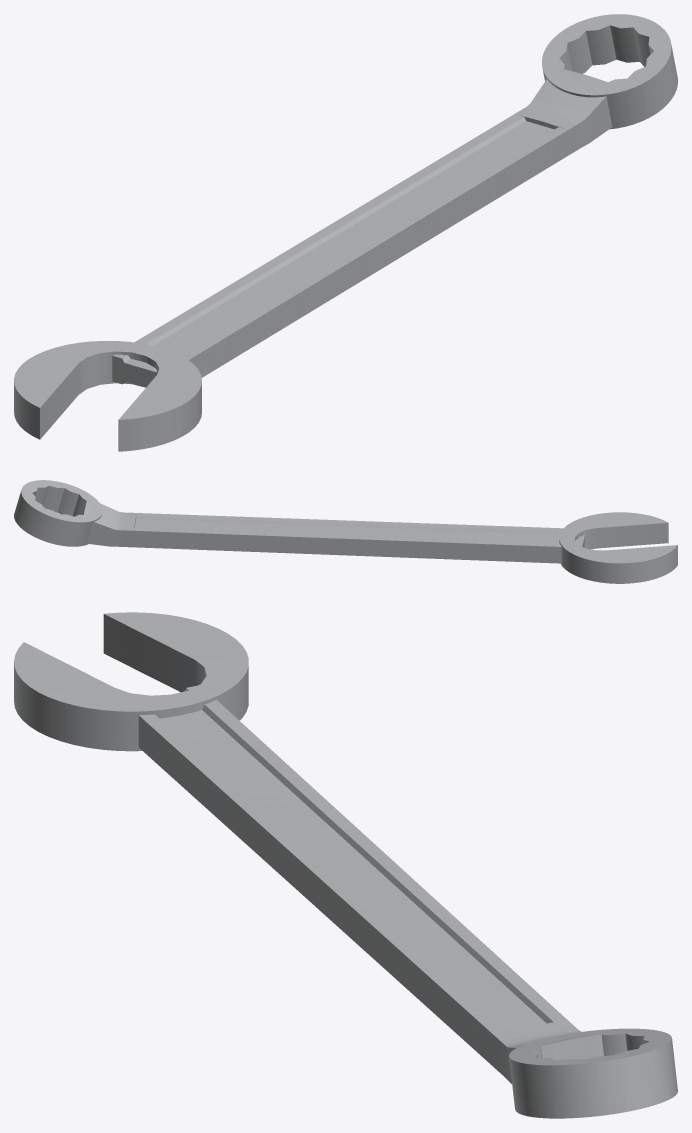
The model's file is combination-spanner-19-mm-fea6d252.glb.
3 views of the same model, one above another, from view 1: azimuth 30°, elevation 25°; view 2: azimuth 150°, elevation 25°; view 3: azimuth 270°, elevation 25° (orthographic). The views are drawn at different scales.
Visible parts, largest first — view 1: Combination spanner 19 mm.001; view 2: Combination spanner 19 mm.001; view 3: Combination spanner 19 mm.001.
Boxes of the visible parts, x1,y1,x2,y2 form: Combination spanner 19 mm.001: (14,14,677,451); Combination spanner 19 mm.001: (14,480,677,583); Combination spanner 19 mm.001: (14,612,677,1118).
Bounding box in the file's own units: 0.2184 × 0.0181 × 0.1214.
Materials: 1 (1 with a texture image).
